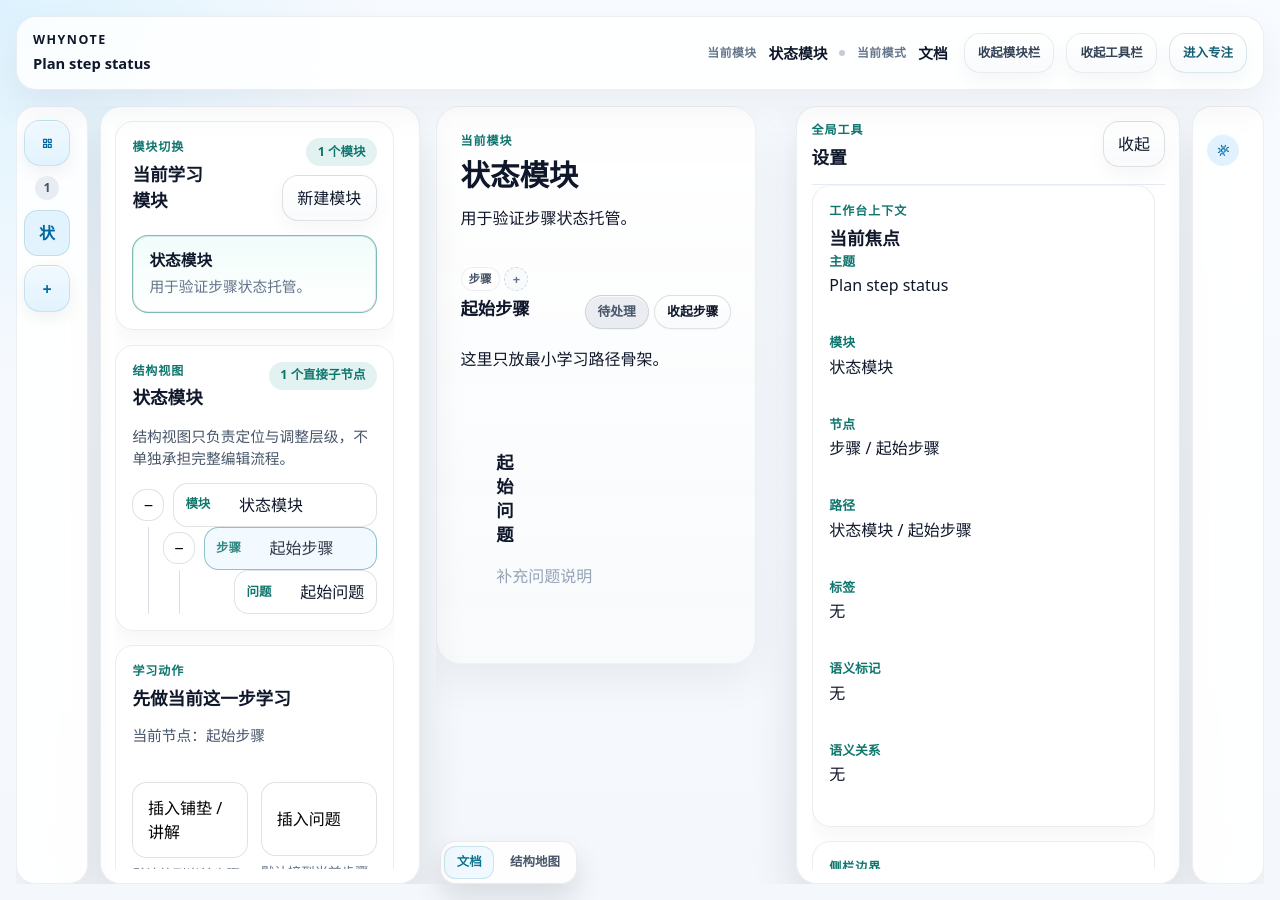
Test: keeps manual step status overrides until later content changes hand control back to the system
This screenshot has width=1280, height=900.
Click the button with test id "plan-step-status-trigger-step-plan-status". click: (617, 312)
box: [585, 295, 649, 329]
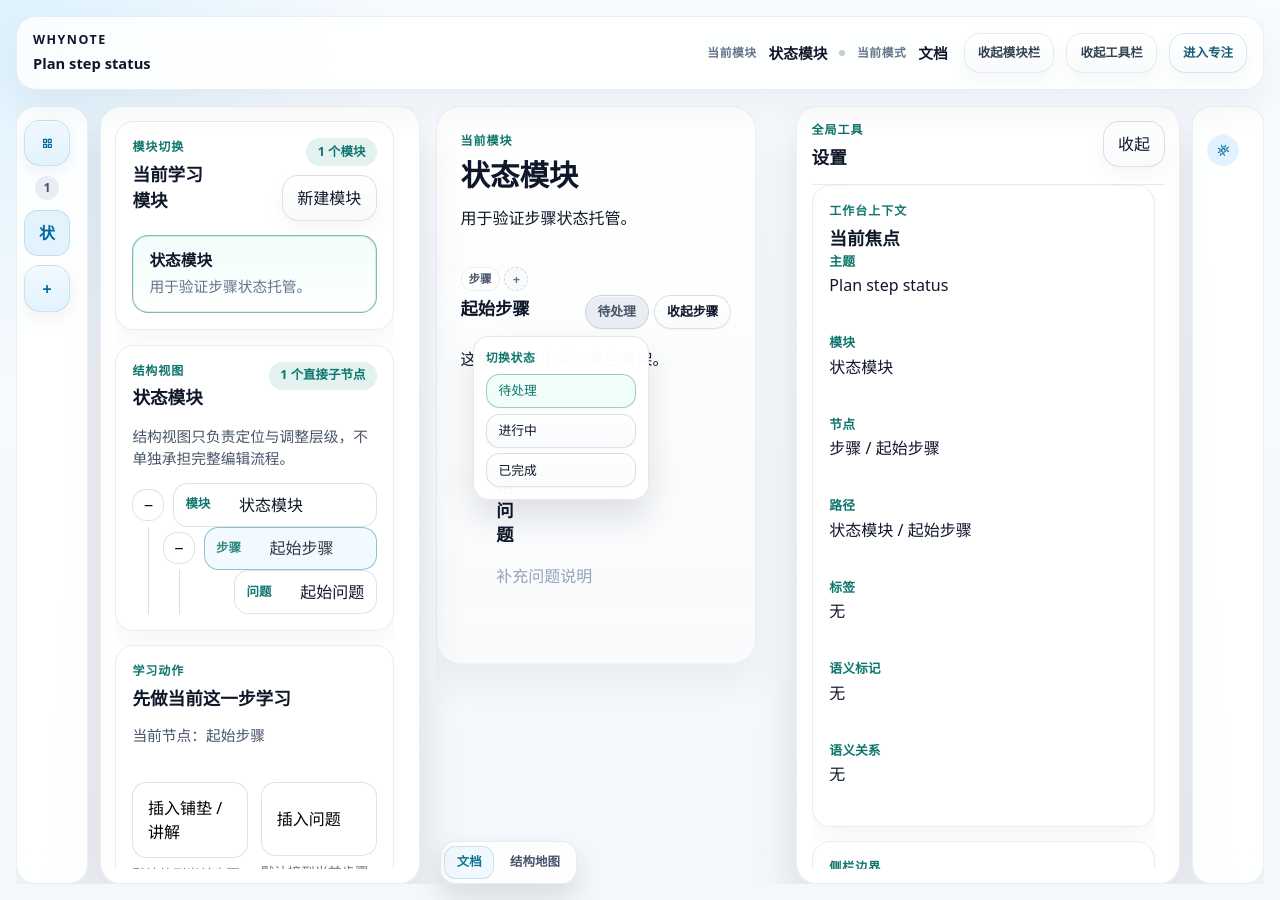
Click the button "已完成". click: (561, 470)
box: [486, 453, 636, 487]
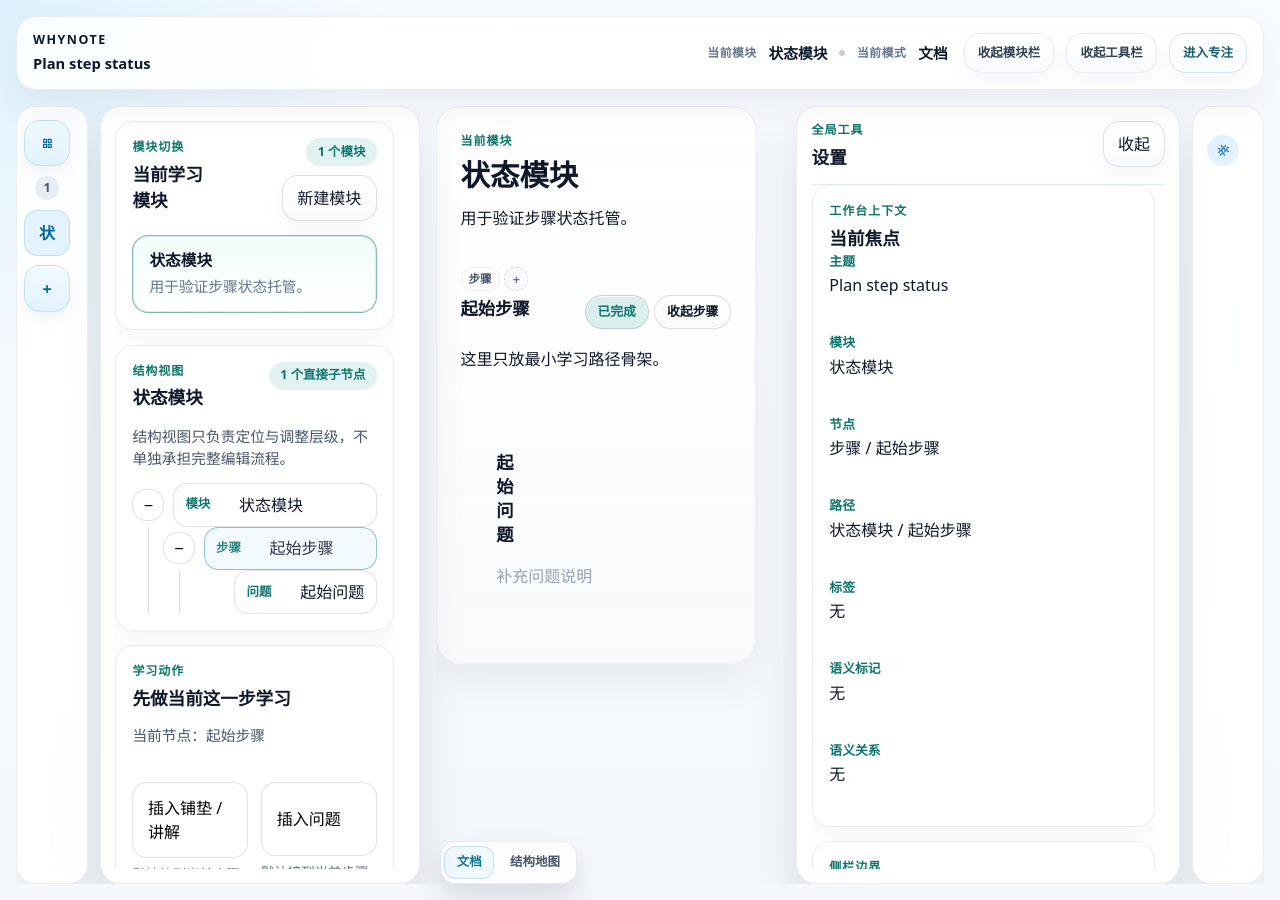
Expected: the button with test id "plan-step-status-trigger-step-plan-status" reads "已完成", [585, 295, 649, 329]
Click the button with test id "editor-node-content-display-question-plan-status". click: (609, 577)
box: [491, 560, 726, 595]
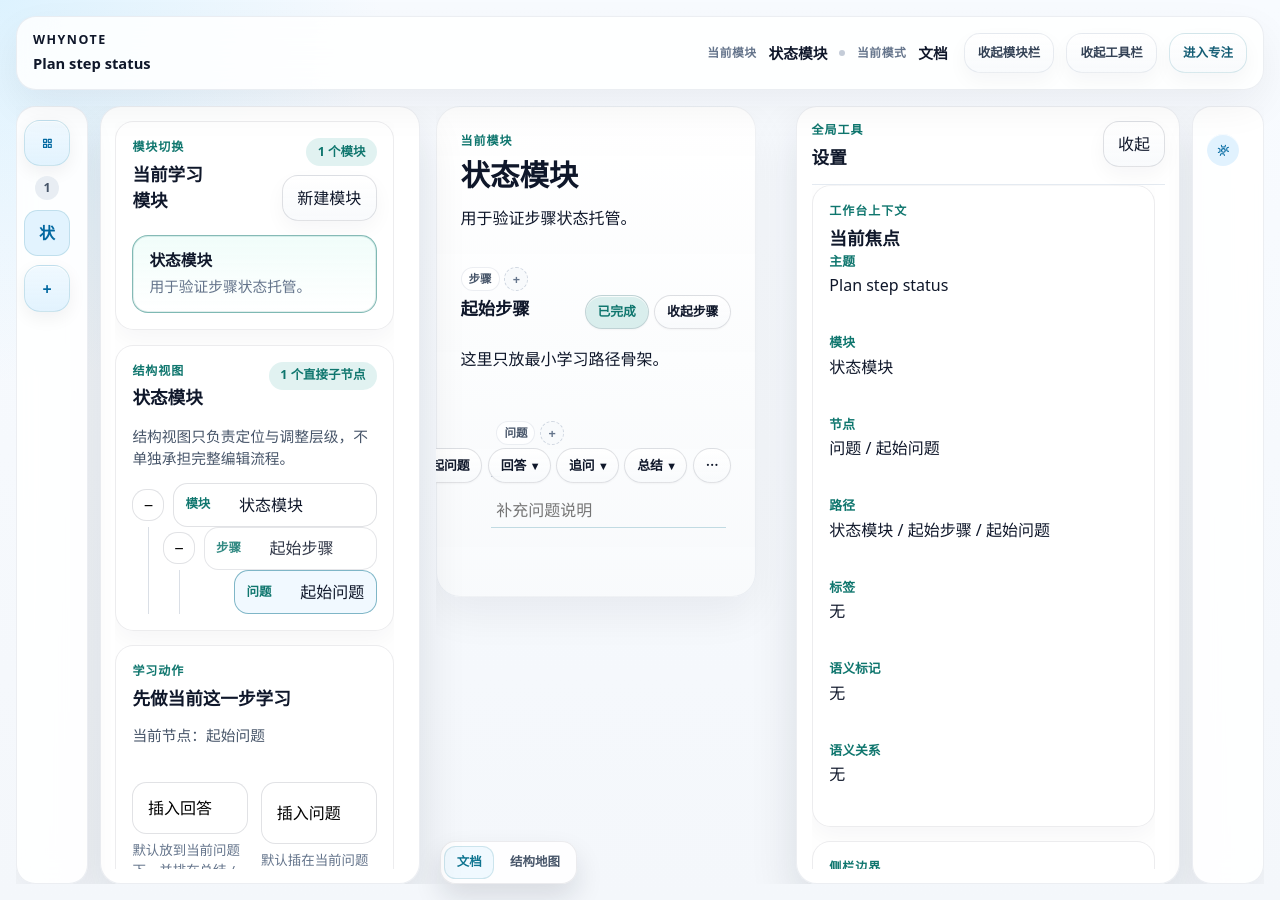
Type "补一段问题说明，触发后续系统重算。" into the text box named "起始问题 内容". click: (609, 510)
box: [491, 493, 726, 528]
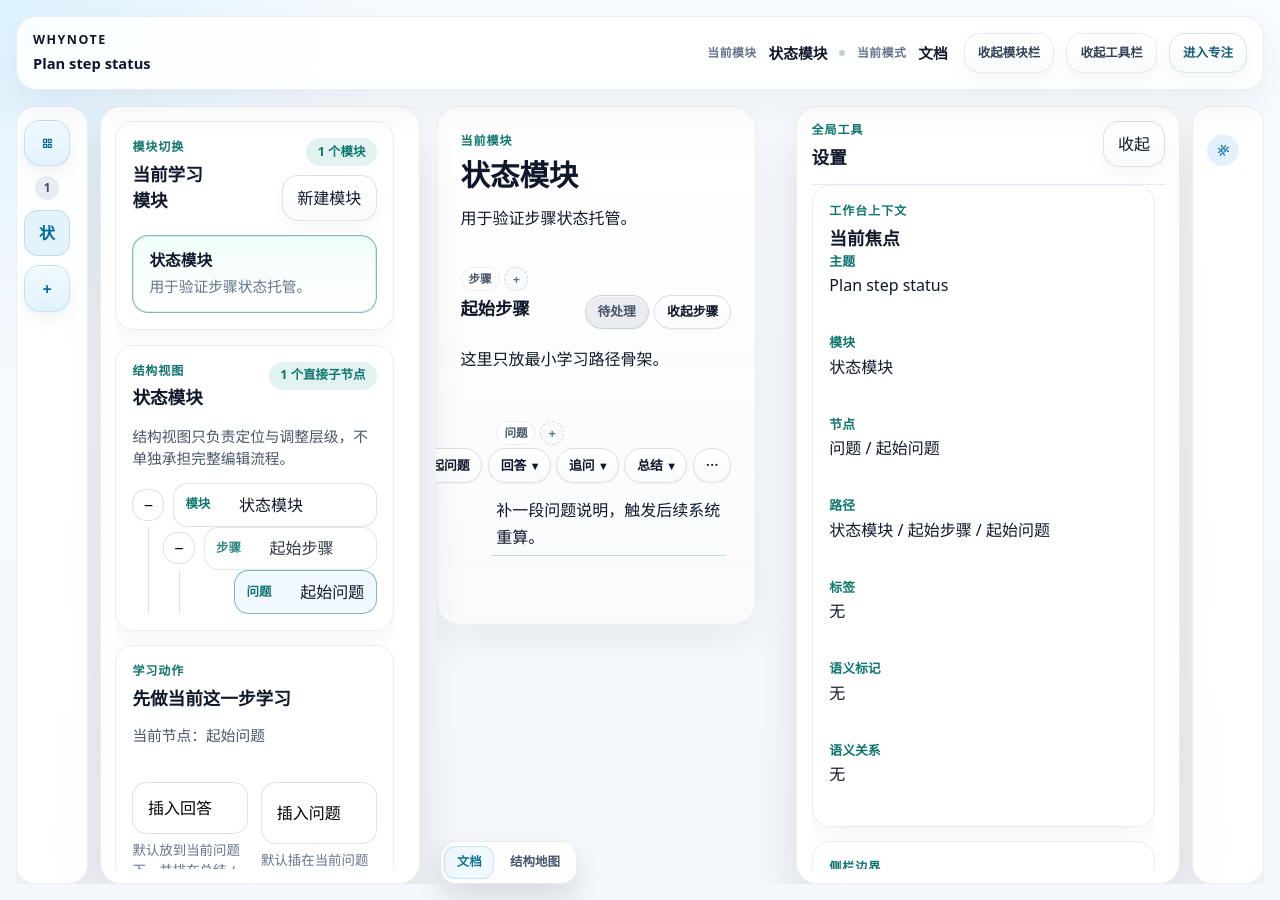
Expected: the button with test id "plan-step-status-trigger-step-plan-status" reads "待处理", [585, 295, 649, 329]
